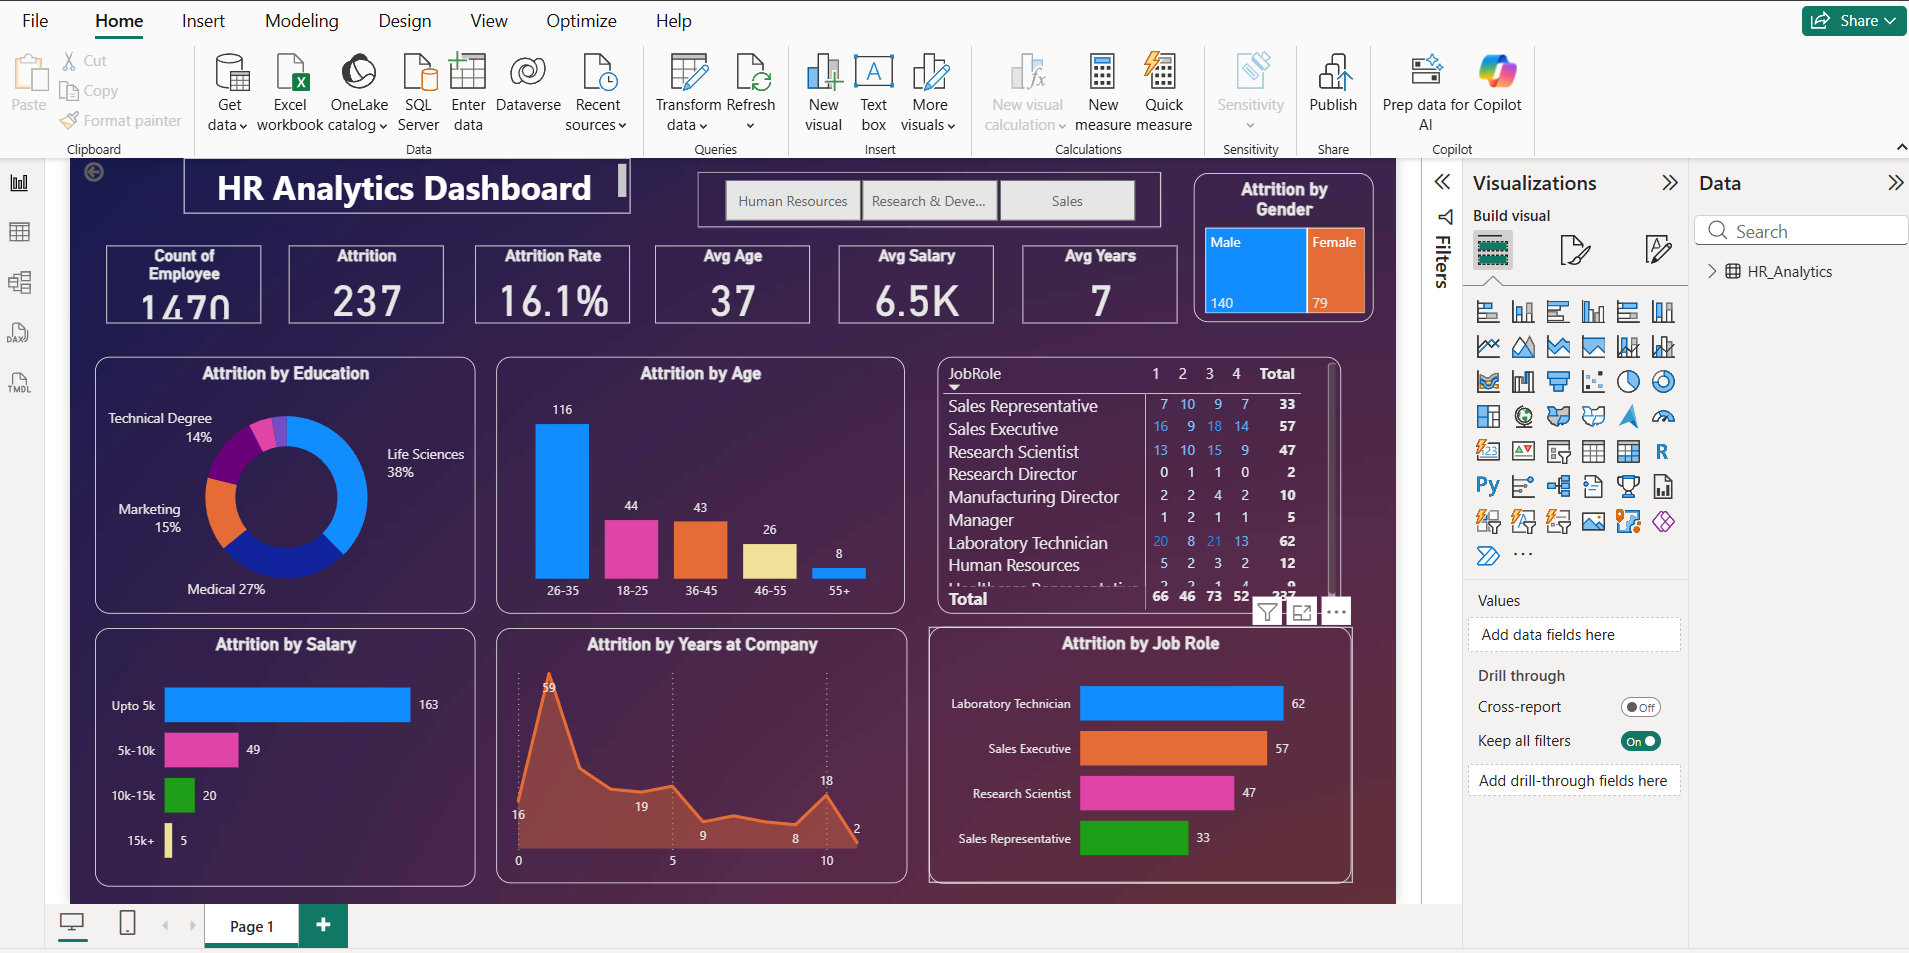

The page's visual inventory and layout, read from the dashboard file:
{"tool":"powerbi","page":{"name":"Page 1","canvas":[1280,720],"ordinal":0},"visuals":[{"type":"card","title":"Count of Employee","fields":{"Values":["CountNonNull(HR_Analytics.EmpID)"]},"box":[35,84.5,149.5,75.6],"z":0},{"type":"card","title":"Attrition","fields":{"Values":["Sum(HR_Analytics.AttritionCount)"]},"box":[211.7,84,149.5,75.6],"z":1000},{"type":"card","title":"Attrition Rate","fields":{"Values":["HR_Analytics.AttritionRate"]},"box":[391.4,84,149.5,75.6],"z":2000},{"type":"card","title":"Avg Age","fields":{"Values":["Avg(HR_Analytics.Age)"]},"box":[564.4,84,149.5,75.6],"z":3000},{"type":"actionButton","box":[10.1,0,100.8,26.9],"z":4000},{"type":"card","title":"Avg Salary","fields":{"Values":["Avg(HR_Analytics.MonthlyIncome)"]},"box":[742.5,84,149.5,75.6],"z":5000},{"type":"card","title":"Avg Years","fields":{"Values":["Avg(HR_Analytics.YearsAtCompany)"]},"box":[918.8,84,149.5,75.6],"z":6000},{"type":"donutChart","title":"Attrition by Education","fields":{"Category":["HR_Analytics.EducationField","HR_Analytics.YearsAtCompany"],"Y":["Sum(HR_Analytics.AttritionCount)"]},"box":[24.1,191.3,367.1,248],"z":7000},{"type":"columnChart","title":"Attrition by Age","fields":{"Category":["HR_Analytics.AgeGroup"],"Y":["Sum(HR_Analytics.AttritionCount)"]},"box":[411,191.3,394,248],"z":8000},{"type":"pivotTable","fields":{"Columns":["HR_Analytics.JobSatisfaction"],"Rows":["HR_Analytics.JobRole"],"Values":["Sum(HR_Analytics.AttritionCount)"]},"box":[837.6,191.3,389.8,248],"z":9000},{"type":"barChart","title":"Attrition by Salary","fields":{"Category":["HR_Analytics.SalarySlab"],"Y":["Sum(HR_Analytics.AttritionCount)"]},"box":[24.1,453.5,367.1,249.4],"z":10000},{"type":"barChart","title":"Attrition by Job Role","fields":{"Category":["HR_Analytics.JobRole"],"Y":["Sum(HR_Analytics.AttritionCount)"]},"box":[829.1,452.1,408.2,248],"z":11000},{"type":"areaChart","title":"Attrition by Years at Company","fields":{"Category":["HR_Analytics.YearsAtCompany"],"Y":["Sum(HR_Analytics.AttritionCount)"]},"box":[411,453.5,396.9,246.6],"z":12000},{"type":"treemap","title":"Attrition by Gender","fields":{"Group":["HR_Analytics.Gender"],"Values":["Sum(HR_Analytics.AttritionCount)"]},"box":[1085,14.1,174,144.3],"z":13000},{"type":"slicer","fields":{"Values":["HR_Analytics.Department"]},"box":[605.6,13.3,447,53.8],"z":14000},{"type":"textbox","box":[110.3,0,431.4,53.8],"z":15000}]}

Visuals, with their boxes on the page's 1280x720 design canvas (x1, y1, x2, y2). These are canvas units, not pixel positions in the 1909x953 screenshot, which may show the page scaled, cropped or inside an application window:
"Count of Employee" card: x1=35, y1=84, x2=184, y2=160
"Attrition" card: x1=212, y1=84, x2=361, y2=160
"Attrition Rate" card: x1=391, y1=84, x2=541, y2=160
"Avg Age" card: x1=564, y1=84, x2=714, y2=160
actionButton: x1=10, y1=0, x2=111, y2=27
"Avg Salary" card: x1=742, y1=84, x2=892, y2=160
"Avg Years" card: x1=919, y1=84, x2=1068, y2=160
"Attrition by Education" donutChart: x1=24, y1=191, x2=391, y2=439
"Attrition by Age" columnChart: x1=411, y1=191, x2=805, y2=439
pivotTable - HR_Analytics.JobSatisfaction x HR_Analytics.JobRole: x1=838, y1=191, x2=1227, y2=439
"Attrition by Salary" barChart: x1=24, y1=454, x2=391, y2=703
"Attrition by Job Role" barChart: x1=829, y1=452, x2=1237, y2=700
"Attrition by Years at Company" areaChart: x1=411, y1=454, x2=808, y2=700
"Attrition by Gender" treemap: x1=1085, y1=14, x2=1259, y2=158
slicer - HR_Analytics.Department: x1=606, y1=13, x2=1053, y2=67
textbox: x1=110, y1=0, x2=542, y2=54
